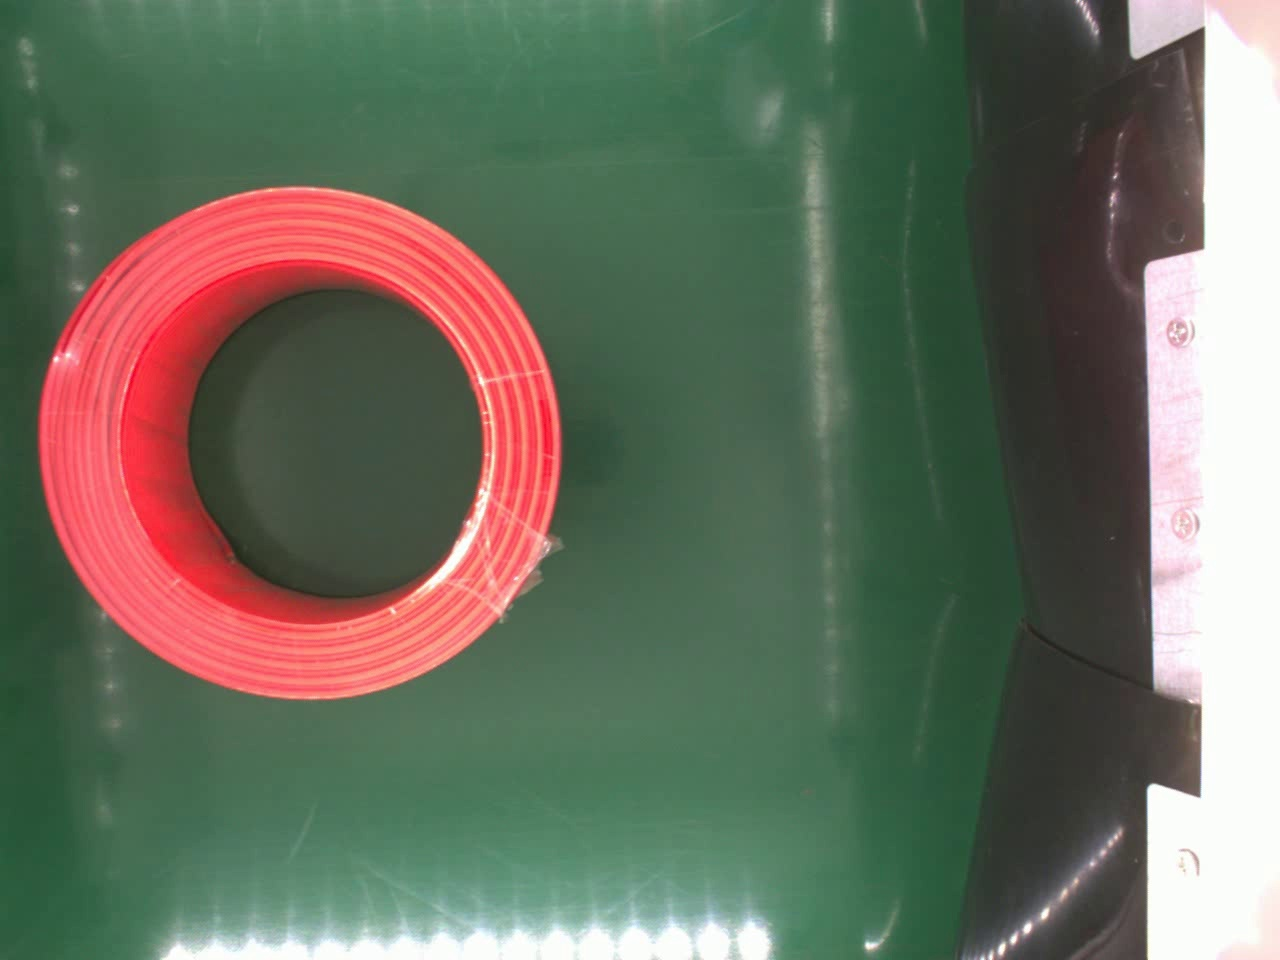red: (35, 181, 561, 700)
